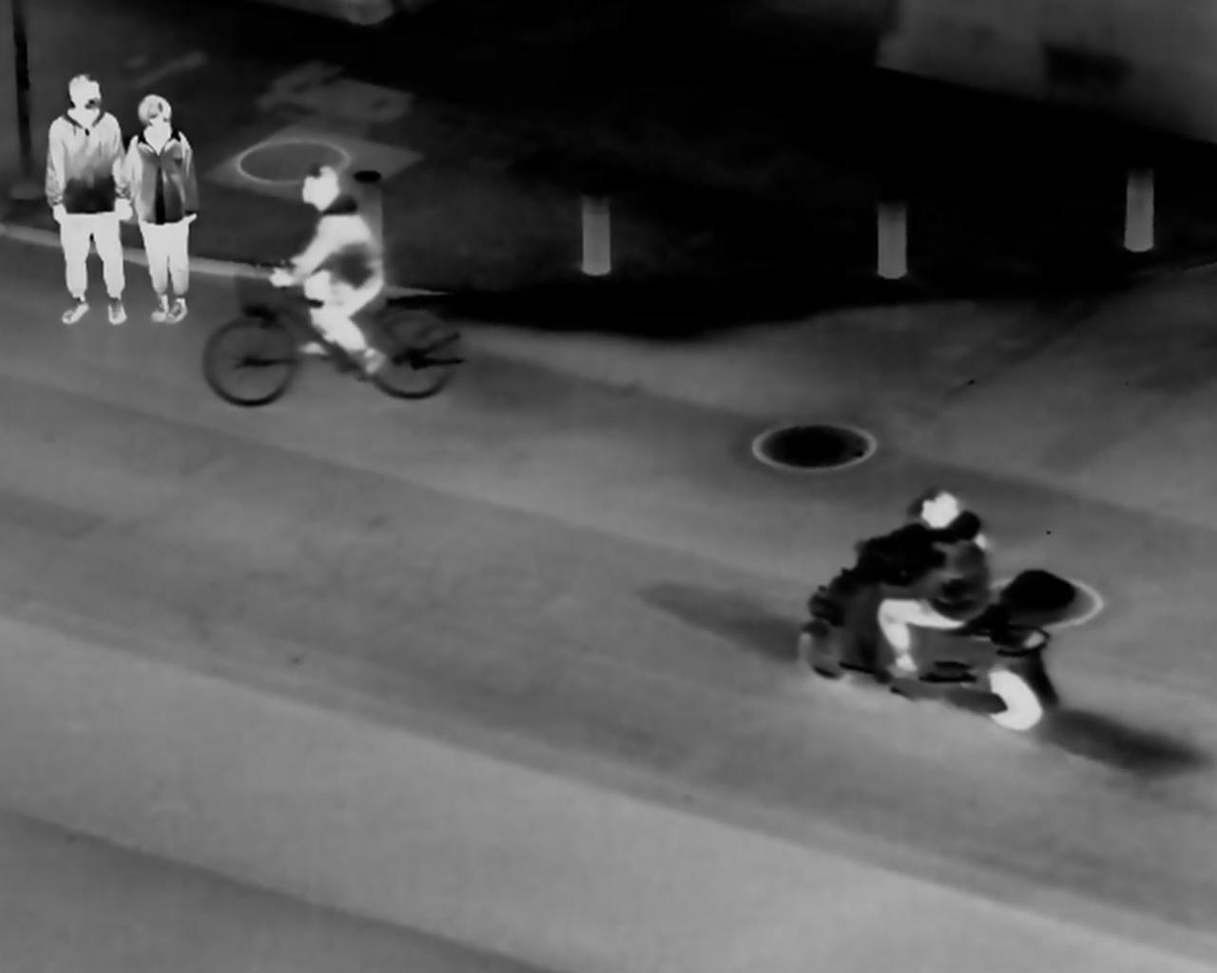person: (855, 464, 995, 683), (249, 162, 391, 373), (43, 72, 131, 332), (122, 83, 208, 329)
